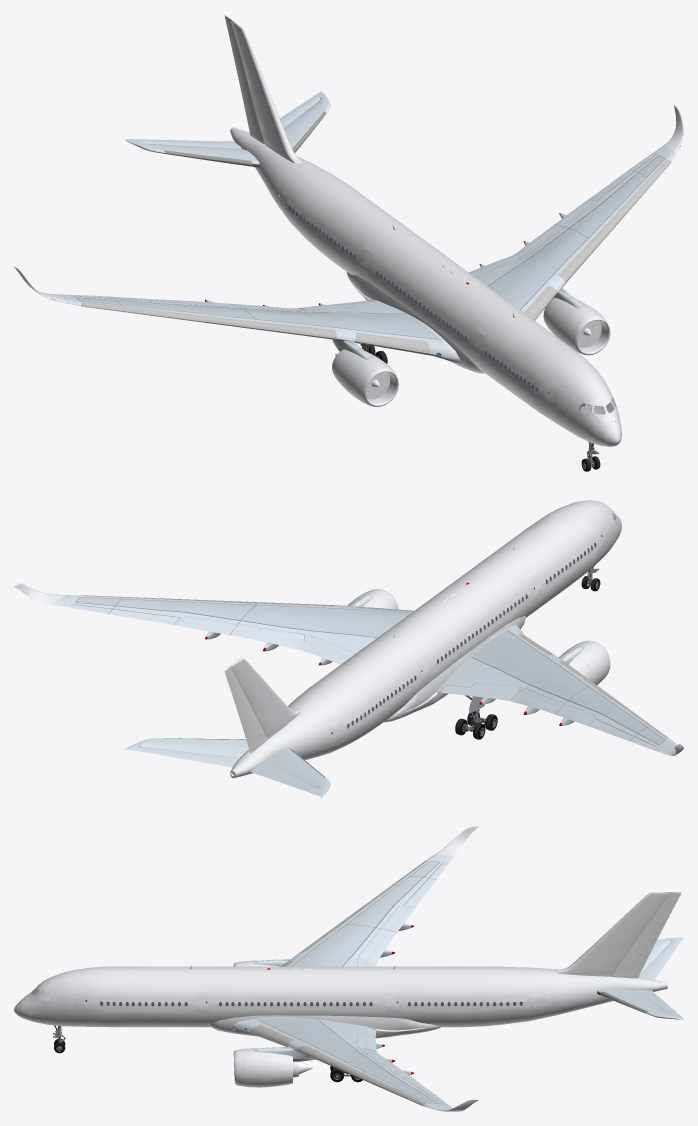
3 renders of one model, top to bottom at view 1: azimuth 30°, elevation 25°; view 2: azimuth 150°, elevation 25°; view 3: azimuth 270°, elevation 25°, orthographic. The views are drawn at different scales.
Visible parts, largest first — view 1: body, rud1; view 2: body, rud1, gear, flapL1, elevL1, ailL1, elevR1, flapR2, flapR3, ailR1, flapL2; view 3: body, rud1, flapR3, elevR1, gear, ailR1.
Part boxes in pixels (left/top/right/bottom): body: left=14, top=19, right=683, bottom=458; rud1: left=224, top=15, right=263, bottom=142; body: left=14, top=500, right=683, bottom=797; rud1: left=224, top=666, right=266, bottom=752; gear: left=455, top=566, right=600, bottom=739; flapL1: left=176, top=620, right=304, bottom=649; elevL1: left=135, top=746, right=239, bottom=767; ailL1: left=70, top=604, right=179, bottom=624; elevR1: left=250, top=763, right=319, bottom=794; flapR2: left=440, top=685, right=517, bottom=701; flapR3: left=510, top=693, right=591, bottom=725; ailR1: left=589, top=719, right=656, bottom=749; flapL2: left=298, top=641, right=349, bottom=664; body: left=14, top=826, right=683, bottom=1111; rud1: left=613, top=892, right=681, bottom=977; flapR3: left=365, top=907, right=414, bottom=963; elevR1: left=638, top=941, right=680, bottom=979; gear: left=53, top=1026, right=362, bottom=1082; ailR1: left=403, top=862, right=448, bottom=907.
Size of the model in its own units: 64.75 by 18.11 by 67.02.
10 materials, 6 textured.
